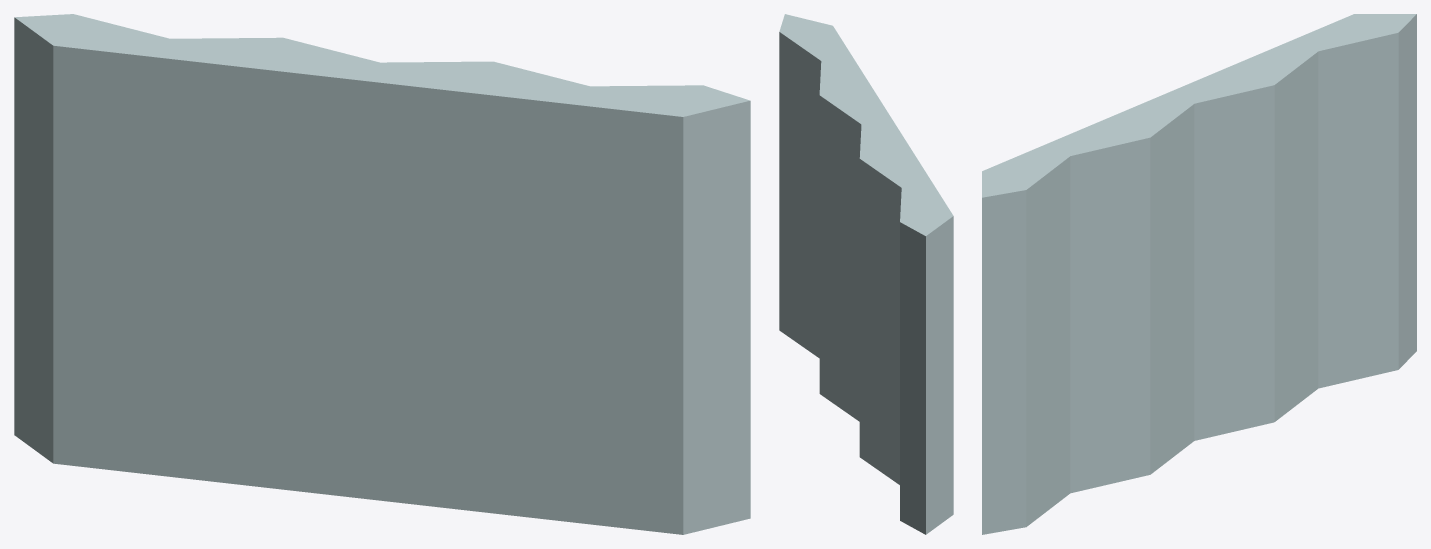
The model's file is cliff_diagonal_stone.glb.
3 renders of one model, left to right at view 1: azimuth 30°, elevation 25°; view 2: azimuth 150°, elevation 25°; view 3: azimuth 270°, elevation 25°, orthographic. The views are drawn at different scales.
Parts seen in each view (by area): view 1: cliff_diagonal_stone; view 2: cliff_diagonal_stone; view 3: cliff_diagonal_stone.
Part boxes in pixels (box(x1,y1,x2,y2)): cliff_diagonal_stone: box(14, 14, 750, 534); cliff_diagonal_stone: box(779, 14, 953, 534); cliff_diagonal_stone: box(982, 14, 1416, 534).
Bounding box in the file's own units: 1.17 × 1 × 1.17.
